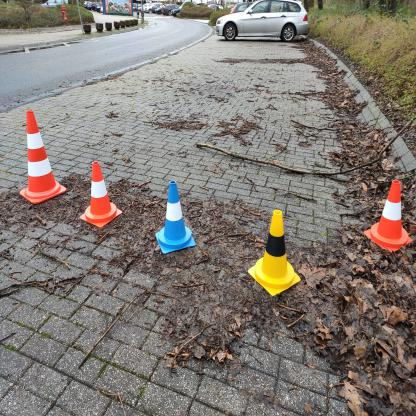Cones_big: (11, 105, 68, 211)
Cones_small_blue: (154, 176, 198, 257)
Cones_small_orange: (359, 178, 415, 252), (74, 159, 124, 232)
Cones_small_yellow: (249, 204, 302, 300)
